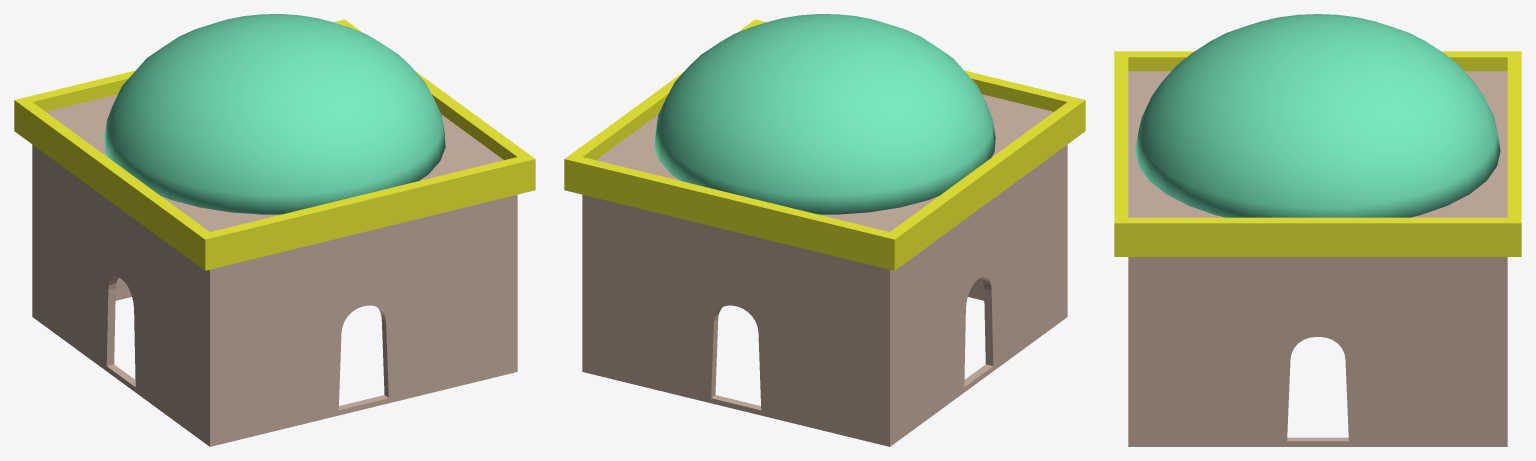
Rendered from HouseUpStair.fbx.
3 renders of one model, left to right at view 1: azimuth 30°, elevation 25°; view 2: azimuth 150°, elevation 25°; view 3: azimuth 270°, elevation 25°, orthographic. The views are drawn at different scales.
Parts seen in each view (by area): view 1: HouseUpstair; view 2: HouseUpstair; view 3: HouseUpstair.
Part boxes in pixels (box(x1,y1,x2,y2)): HouseUpstair: box(14, 14, 535, 446); HouseUpstair: box(564, 14, 1085, 446); HouseUpstair: box(1114, 14, 1521, 446).
Bounding box in the file's own units: 75.74 × 75.74 × 67.66.
